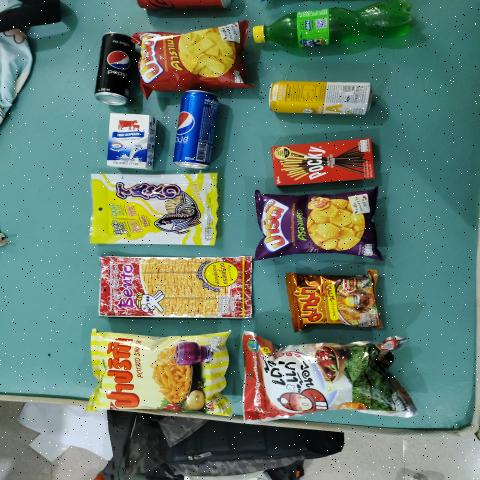bento_red: (102, 258, 251, 316)
fanta_green: (253, 5, 406, 54)
mama: (300, 278, 375, 326)
paprika: (98, 334, 220, 413)
party_purple: (264, 195, 372, 255)
party_red: (140, 30, 239, 84)
pepsi_black: (99, 37, 126, 102)
pepsi_blue: (175, 84, 210, 168)
pokki: (271, 136, 373, 188)
singha_yellow: (268, 82, 372, 116)
taokaenoi: (253, 349, 399, 410)
taro_yellow: (92, 176, 209, 244)
thai_denmark: (109, 114, 151, 170)
